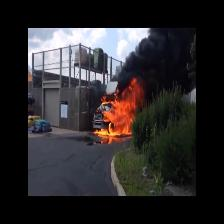fire: (105, 94, 138, 135)
smoke: (141, 31, 195, 86)
